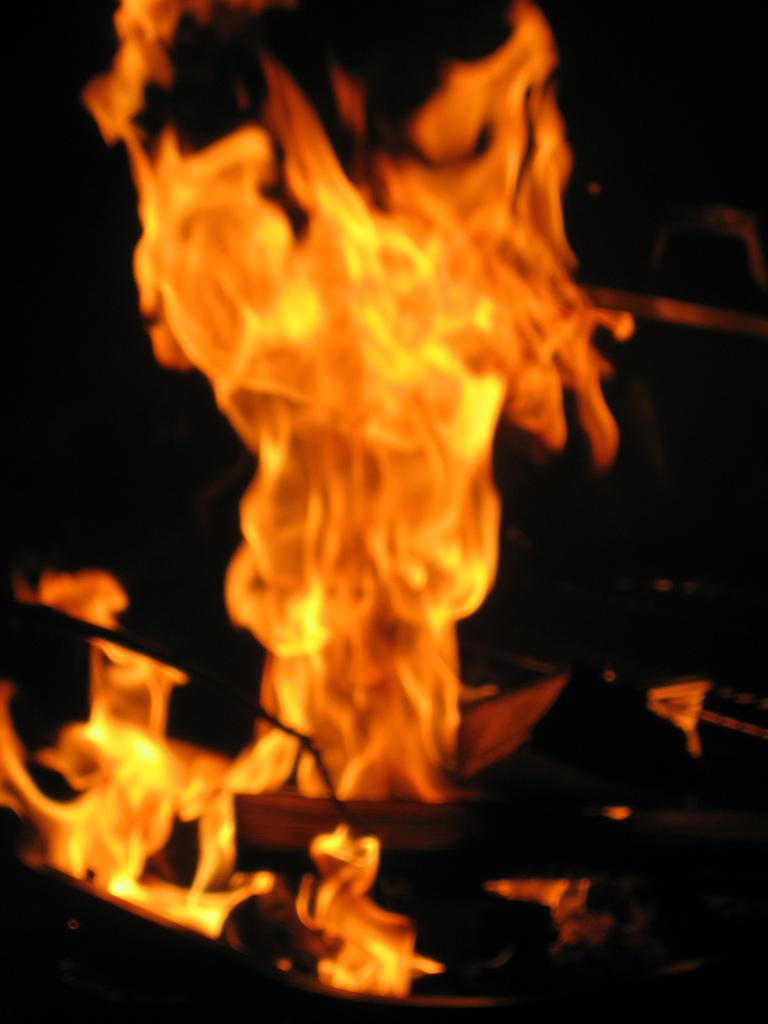fire: (265, 245, 452, 758), (75, 728, 172, 855)
